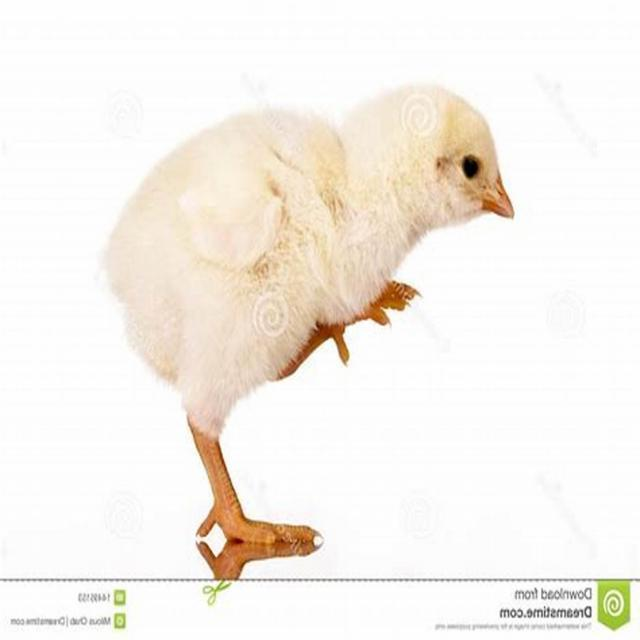poussin: (101, 81, 521, 552)
